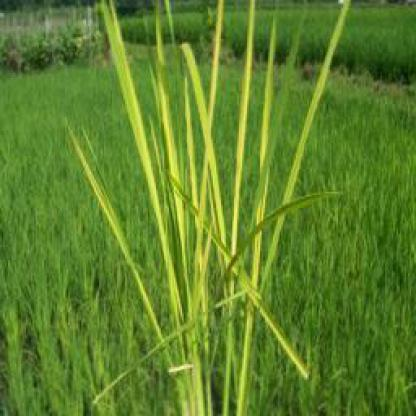Tungro: (265, 1, 356, 294), (97, 3, 180, 323), (62, 144, 169, 357), (148, 8, 198, 414), (180, 39, 214, 416), (229, 3, 258, 284), (240, 289, 313, 380), (261, 18, 279, 247), (195, 344, 247, 416), (209, 3, 221, 312)
